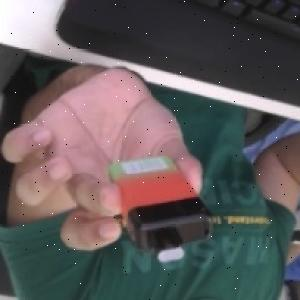Swift-E-Ciggirate: (103, 150, 215, 264)
